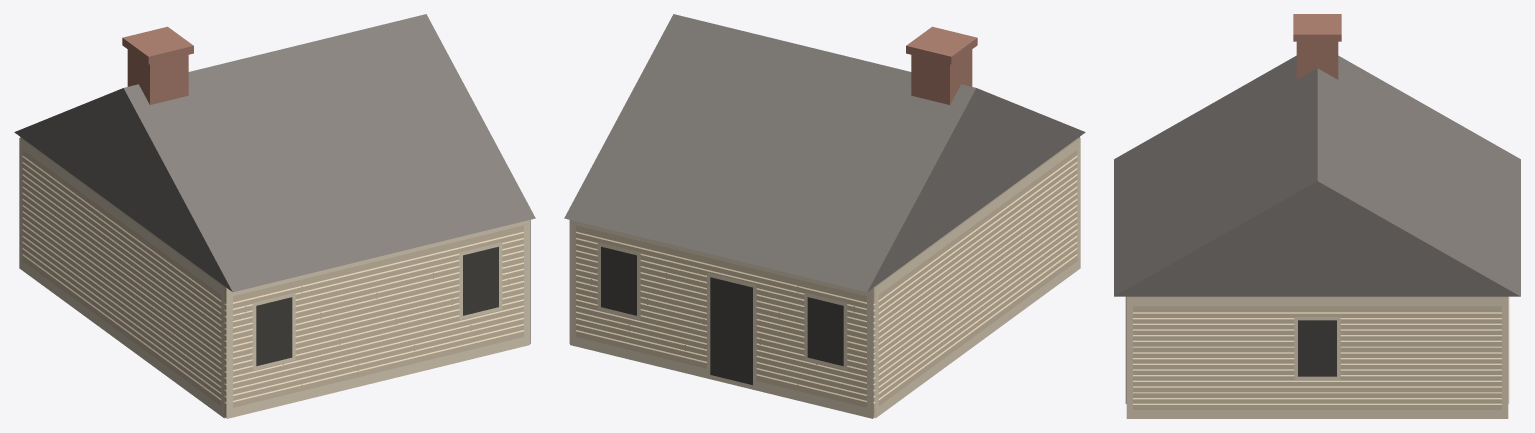
Rendered from recon_1835_blk_randolph_clinton_d4_02__inferred_1835.glb.
The picture shows the model from 3 angles, left to right: view 1: azimuth 30°, elevation 25°; view 2: azimuth 150°, elevation 25°; view 3: azimuth 270°, elevation 25°; orthographic projection. The views are drawn at different scales.
Visible parts, largest first — view 1: recon_1835_blk_randolph_clinton_d4_02__inferred_1835; view 2: recon_1835_blk_randolph_clinton_d4_02__inferred_1835; view 3: recon_1835_blk_randolph_clinton_d4_02__inferred_1835.
Part boxes in pixels (<box>): recon_1835_blk_randolph_clinton_d4_02__inferred_1835: <box>14,14,535,418</box>; recon_1835_blk_randolph_clinton_d4_02__inferred_1835: <box>564,14,1085,418</box>; recon_1835_blk_randolph_clinton_d4_02__inferred_1835: <box>1114,14,1520,418</box>.
Bounding box in the file's own units: 6.64 × 6.06 × 8.2.
